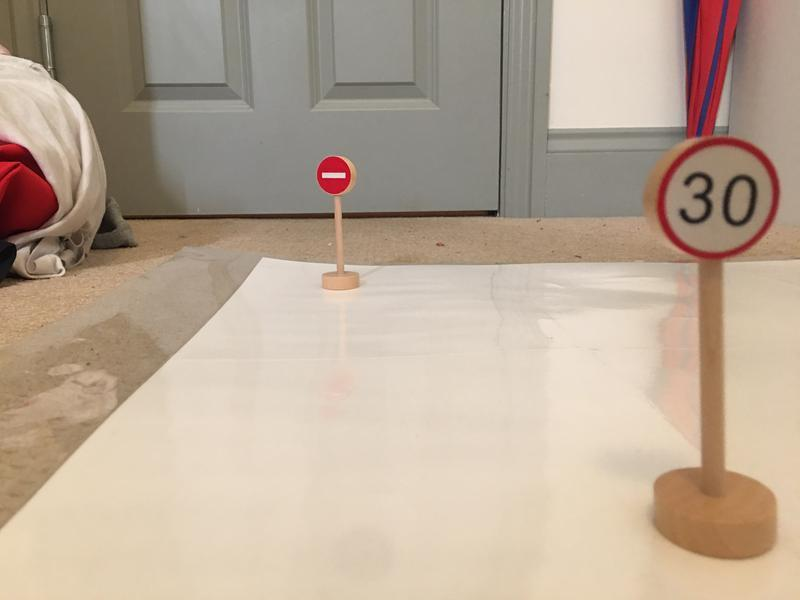Traffic_Sign_30: (656, 140, 778, 255)
Traffic_Sign_No_Entry: (317, 157, 353, 193)
